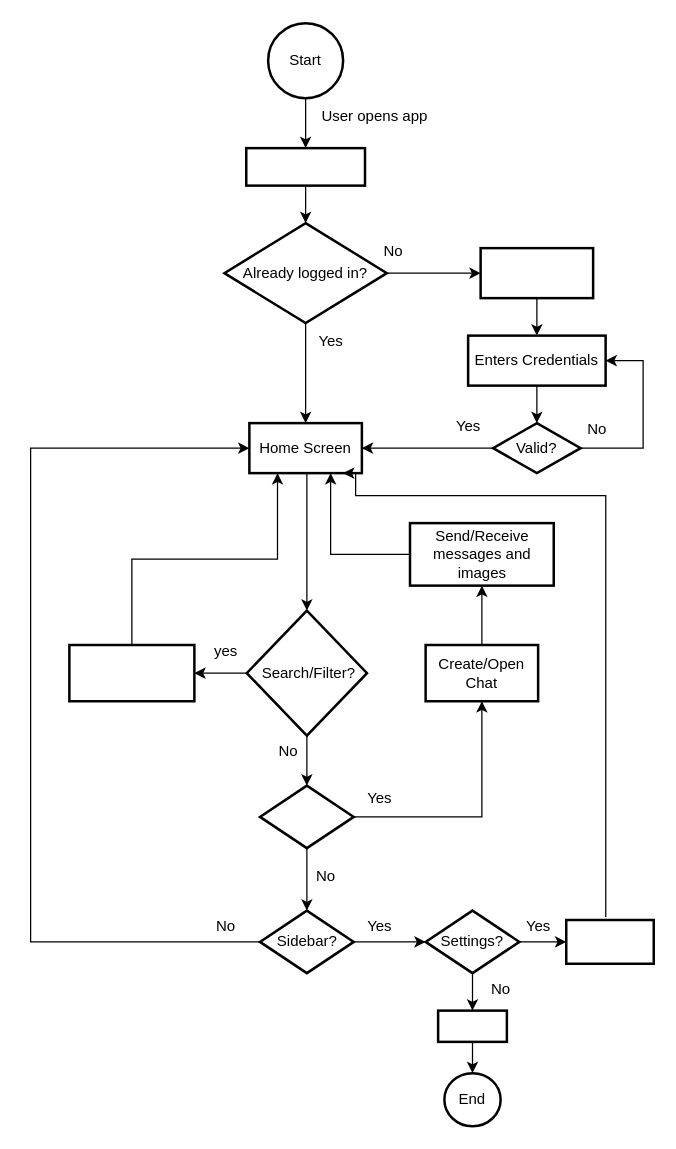
This 676x1149 diagram has some shape labels left out. Each missing label, with the box of its shape:
Apply: (68, 643, 195, 702)
Authentication: (244, 146, 366, 186)
Chat?: (258, 784, 354, 849)
Logout: (436, 1009, 508, 1042)
Open Settings: (564, 918, 654, 964)
Signup/Login: (479, 246, 594, 299)
